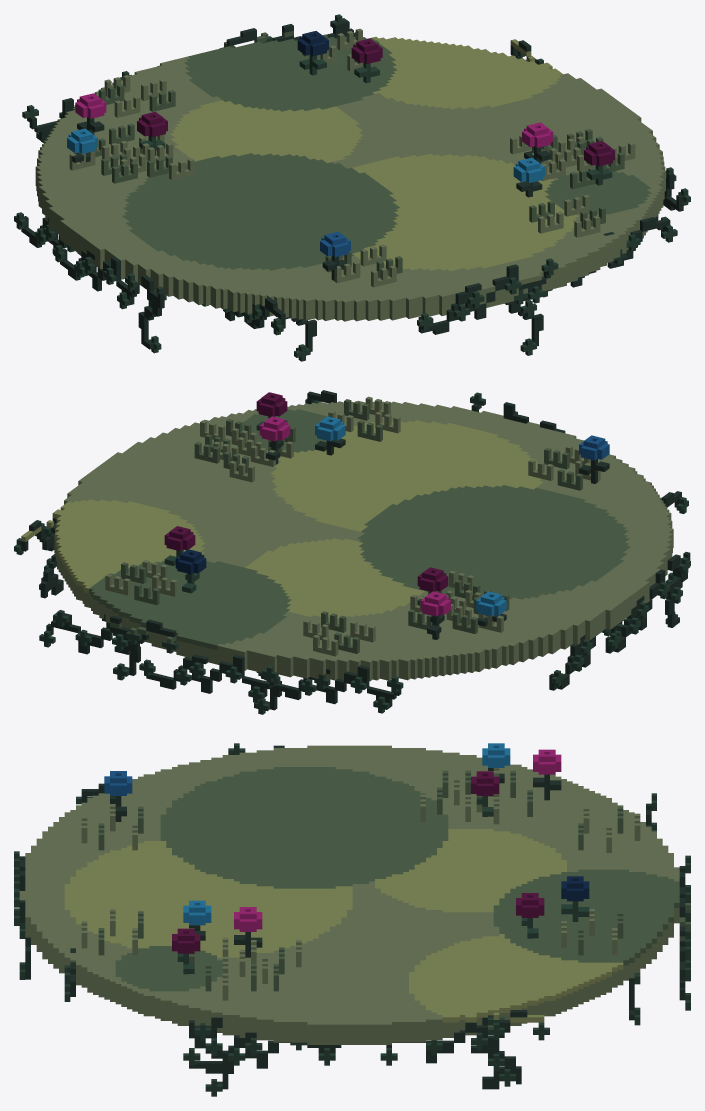
File: ggj2020_stage_flower 1.obj
The picture shows the model from 3 angles, top to bottom: view 1: azimuth 30°, elevation 25°; view 2: azimuth 150°, elevation 25°; view 3: azimuth 270°, elevation 25°; orthographic projection. The views are drawn at different scales.
Size of the model in its own units: 11.8 by 2.5 by 12.
Materials: 1 (1 with a texture image).
